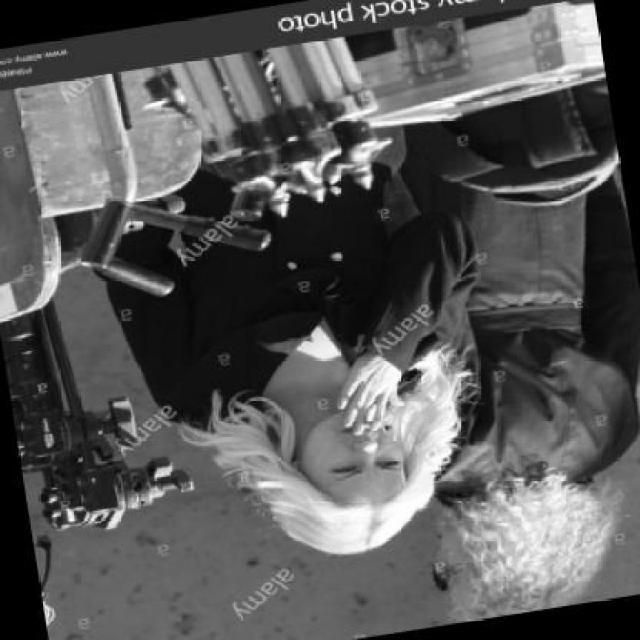cigarette: (355, 399, 380, 430)
